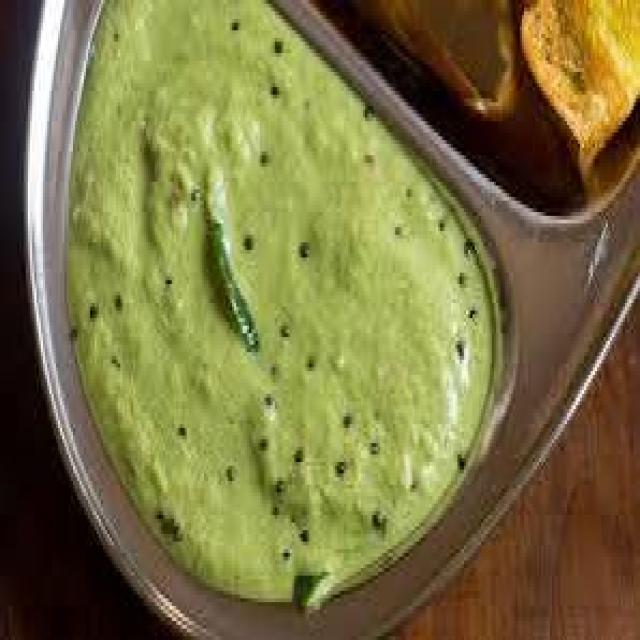WHITE CHUTNEY: (69, 0, 494, 602)
